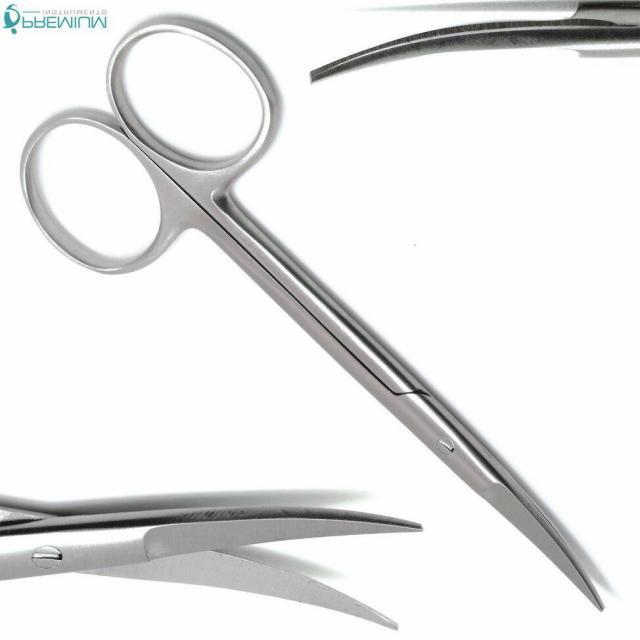Iris: (13, 13, 604, 615), (3, 492, 430, 634), (303, 13, 640, 96)
